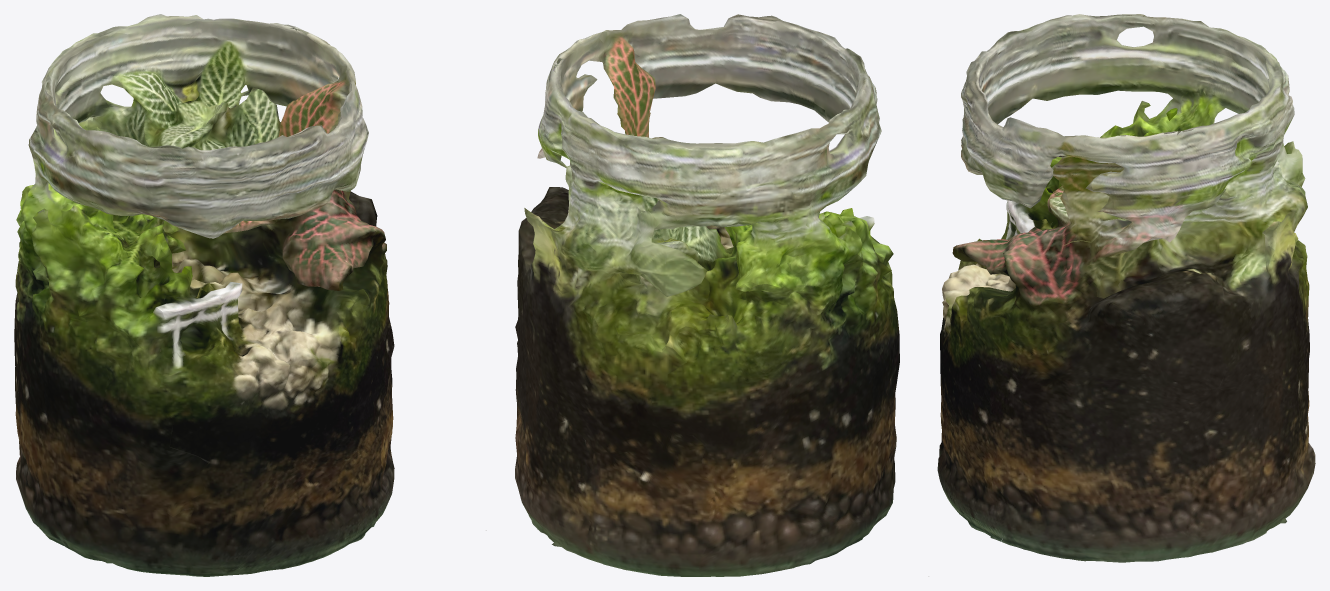
File: miniature-garden.glb
The picture shows the model from 3 angles, left to right: view 1: azimuth 30°, elevation 25°; view 2: azimuth 150°, elevation 25°; view 3: azimuth 270°, elevation 25°; orthographic projection. The views are drawn at different scales.
Parts seen in each view (by area): view 1: Object_2; view 2: Object_2; view 3: Object_2.
Part boxes in pixels (x1=…): Object_2: x1=14, y1=14, x2=486, y2=576; Object_2: x1=515, y1=14, x2=899, y2=576; Object_2: x1=928, y1=14, x2=1315, y2=576.
Bounding box in the file's own units: 0.233 × 0.2728 × 0.2302.
1 material, 1 textured.
